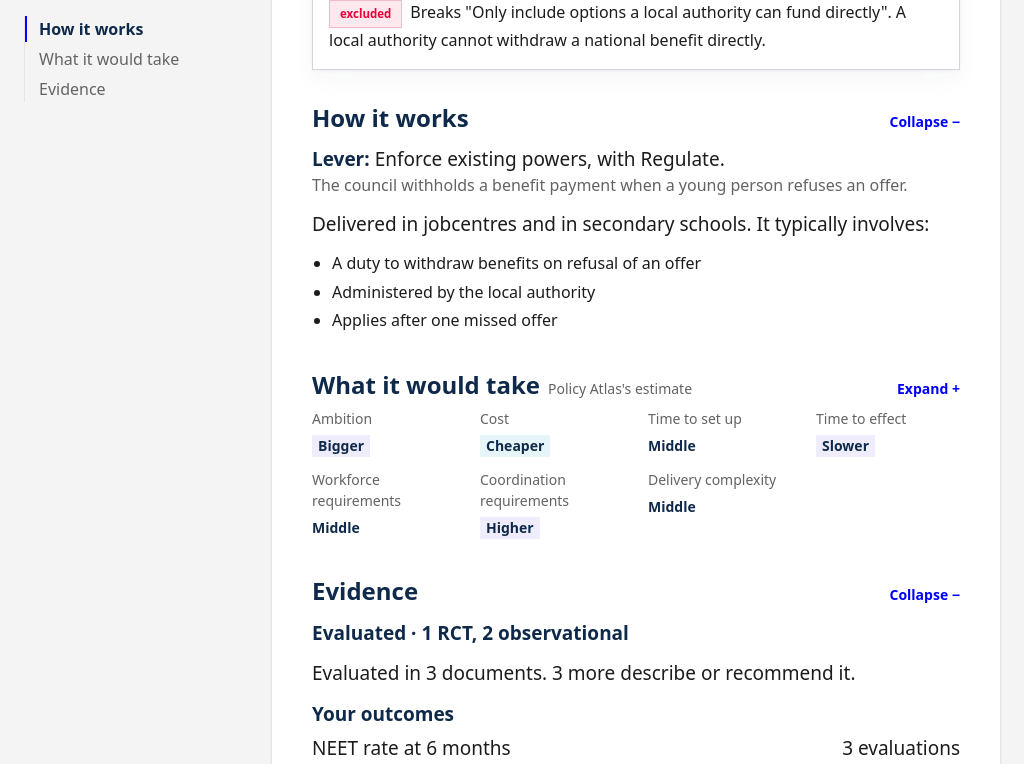
Test: OptionCard › shows eight lines for a profile written before Potential impact existed
(page scrolled)
Click the button "What it would take" at (636, 385), box [312, 369, 960, 400]
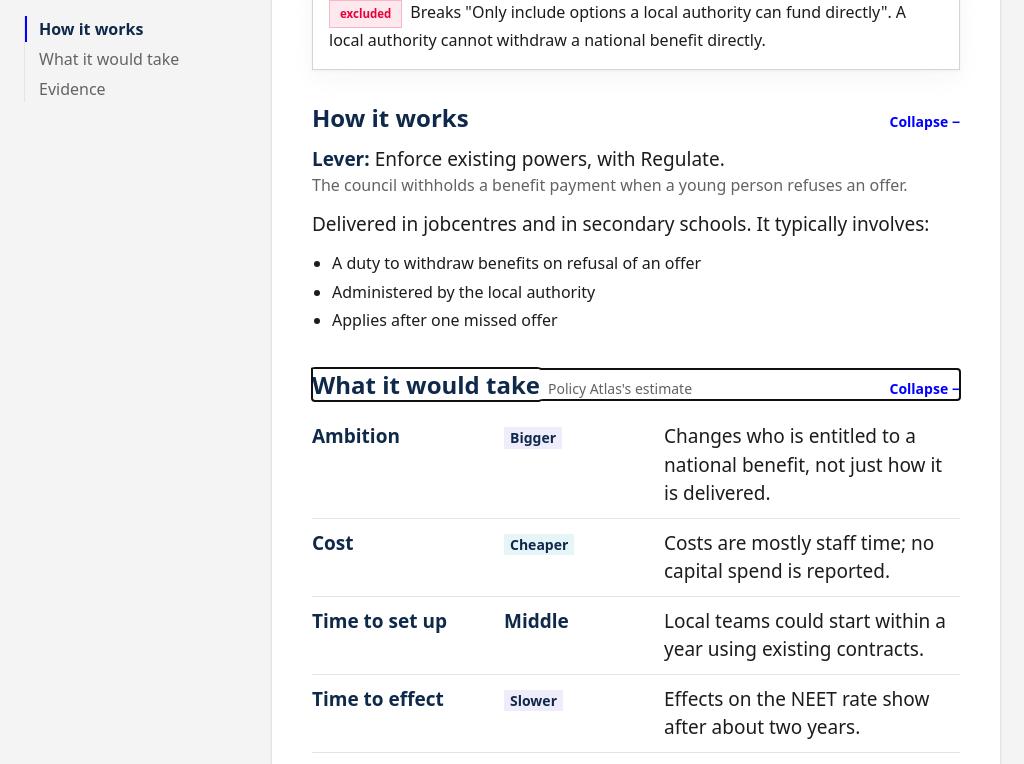
Result: the number of rows is 9
